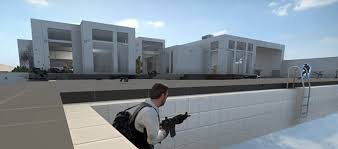gun: (159, 111, 191, 137)
